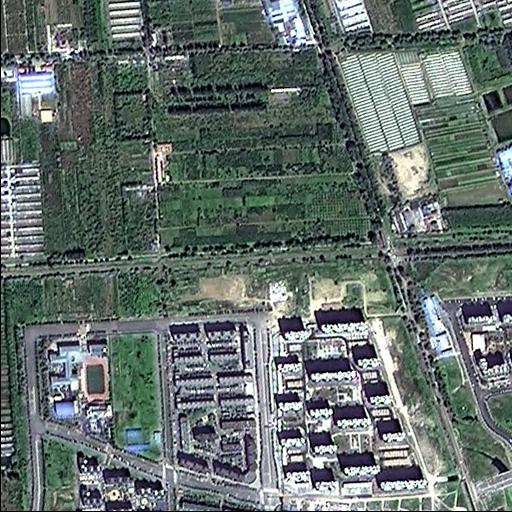school: (38, 329, 112, 423)
